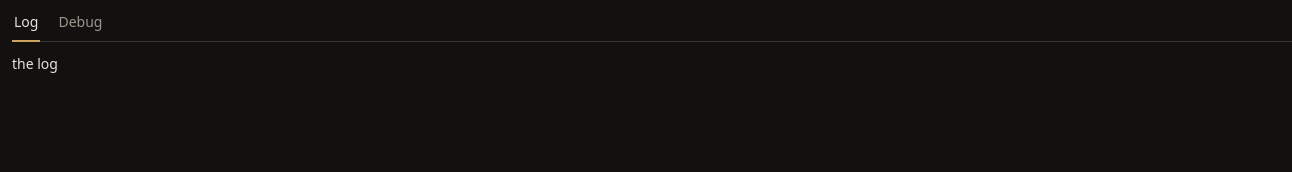
it: PagedTab › shows its first page, and another when picked
This screenshot has width=1292, height=172.
Check: the text "the log" is shown, box [12,54,58,73]
Click the tab "Debug". click: click(80, 27)
box: [56,12,104,42]
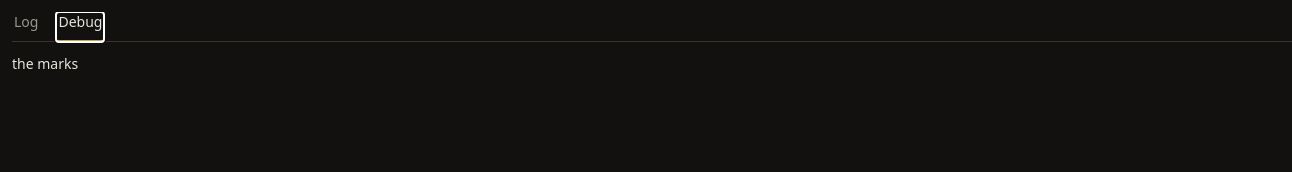
Check: the text "the marks" is shown, box [12,54,78,73]
